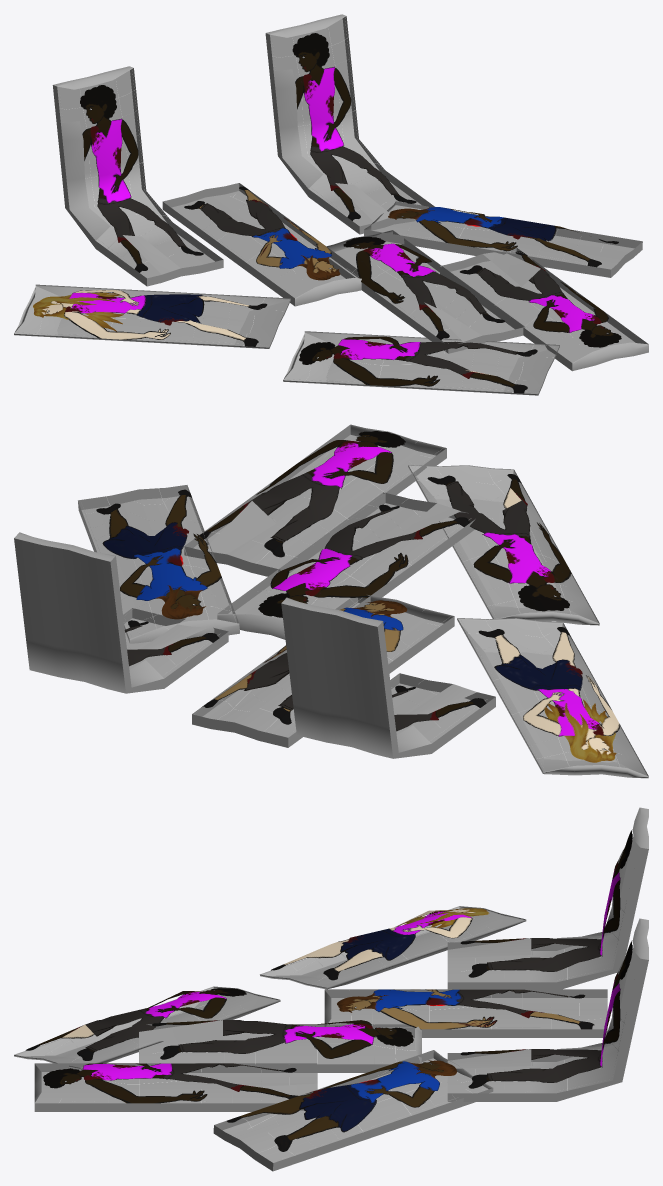
File: Death_cluster1.fbx
3 views of the same model, one above another, from view 1: azimuth 30°, elevation 25°; view 2: azimuth 150°, elevation 25°; view 3: azimuth 270°, elevation 25° (orthographic). The views are drawn at different scales.
Parts seen in each view (by area): view 1: pCube19; view 2: pCube19; view 3: pCube19.
Part boxes in pixels (x1,y1,x2,y2): pCube19: [14, 14, 648, 395]; pCube19: [14, 424, 648, 778]; pCube19: [14, 807, 648, 1171].
Size of the model in its own units: 5.58 by 1.56 by 5.3.
Materials: 5 (4 with a texture image).
